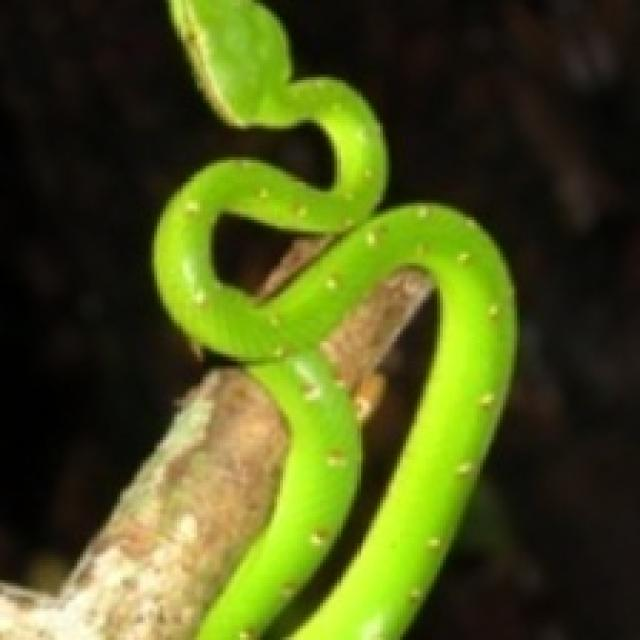north ph temple pitviper: (154, 0, 514, 637)
